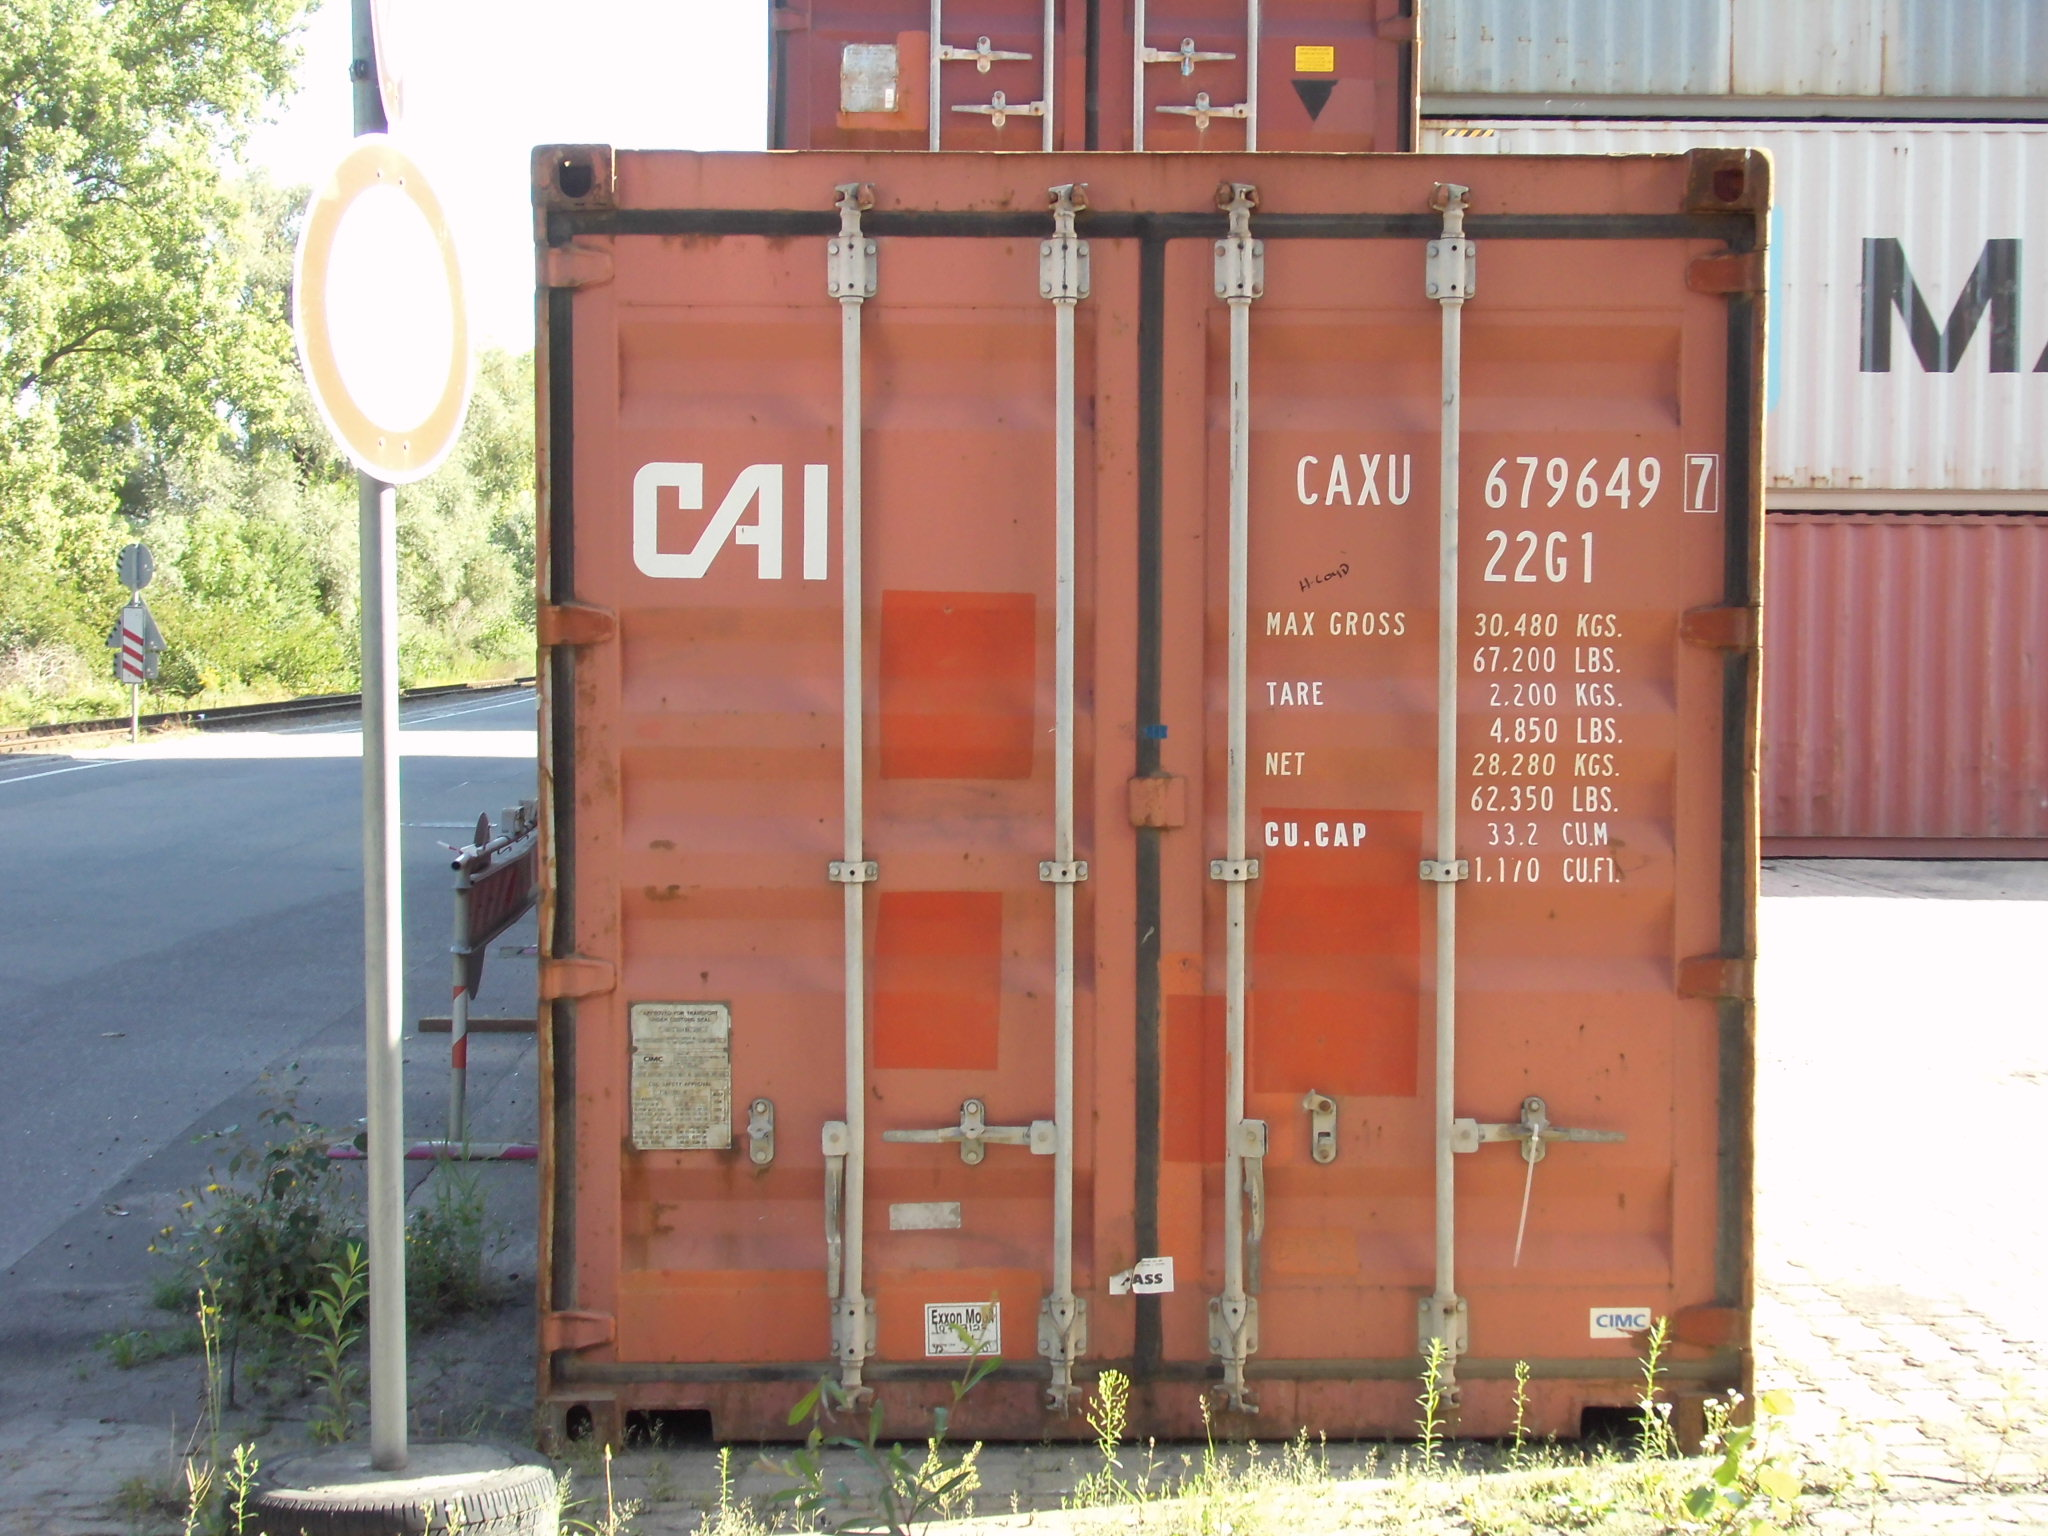container_door: (535, 148, 1738, 1442)
